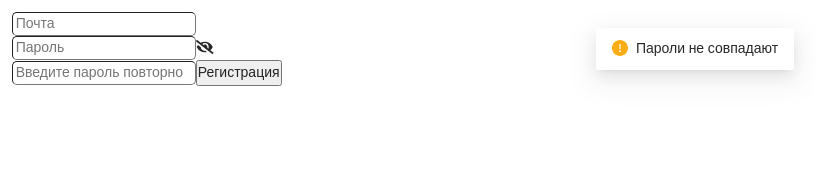
Test case: registration › acc already created
This screenshot has width=816, height=172.
In the field with placeholder "Почта": (104, 24) [12,12,196,36], type "alexey@gmail.com"
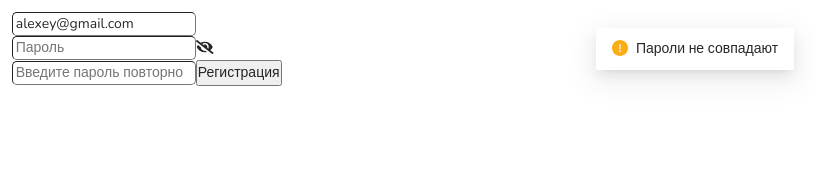
In the password field with placeholder "Пароль": (104, 48) [12,36,196,60], type "12"
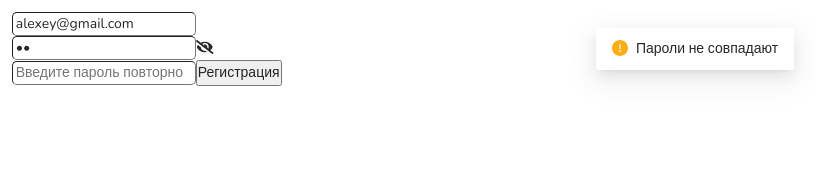
In the password field with placeholder "Введите пароль повторно": (104, 73) [12,61,196,85], type "12"
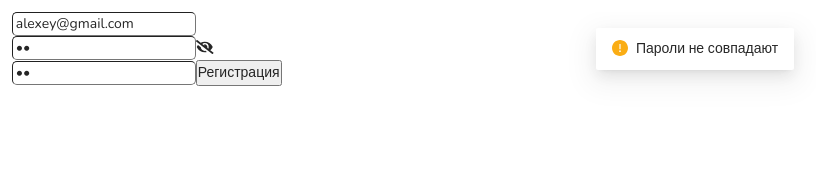
Click the button: click(239, 73) [196,60,282,86]
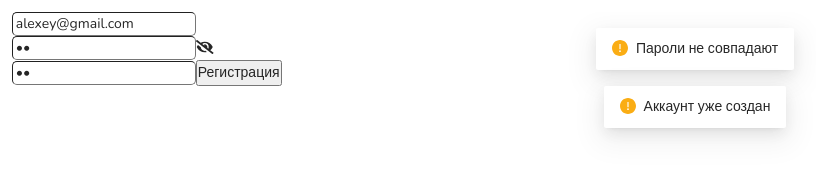
Now the text "Аккаунт уже создан" is shown, box [644,97,770,116]
